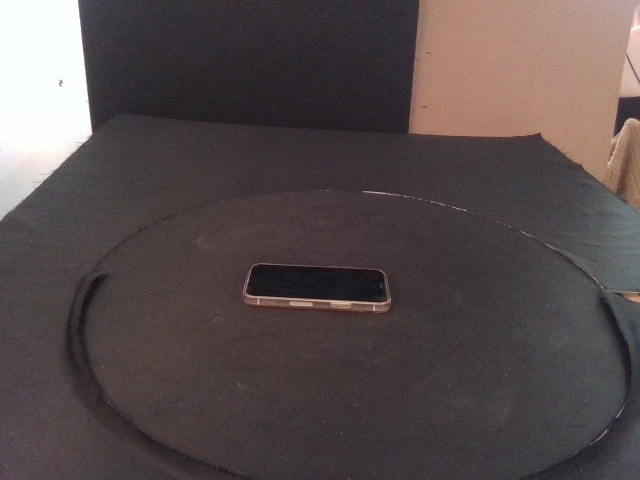phone: (242, 262, 390, 313)
